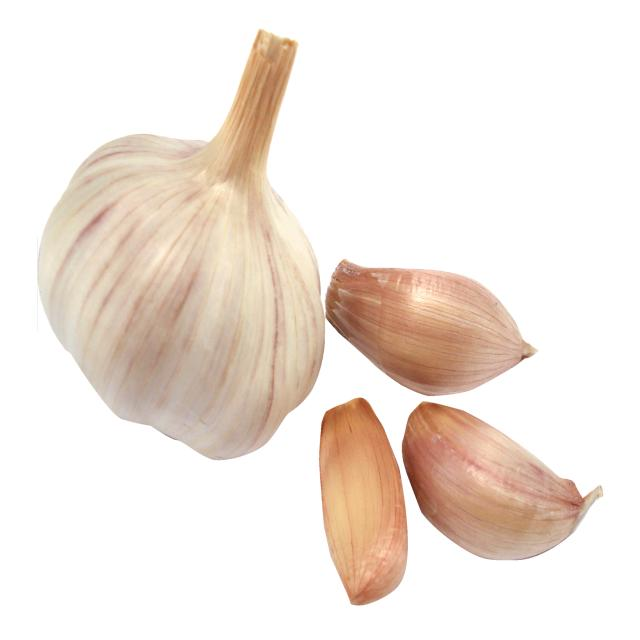garlic: (31, 108, 328, 480)
